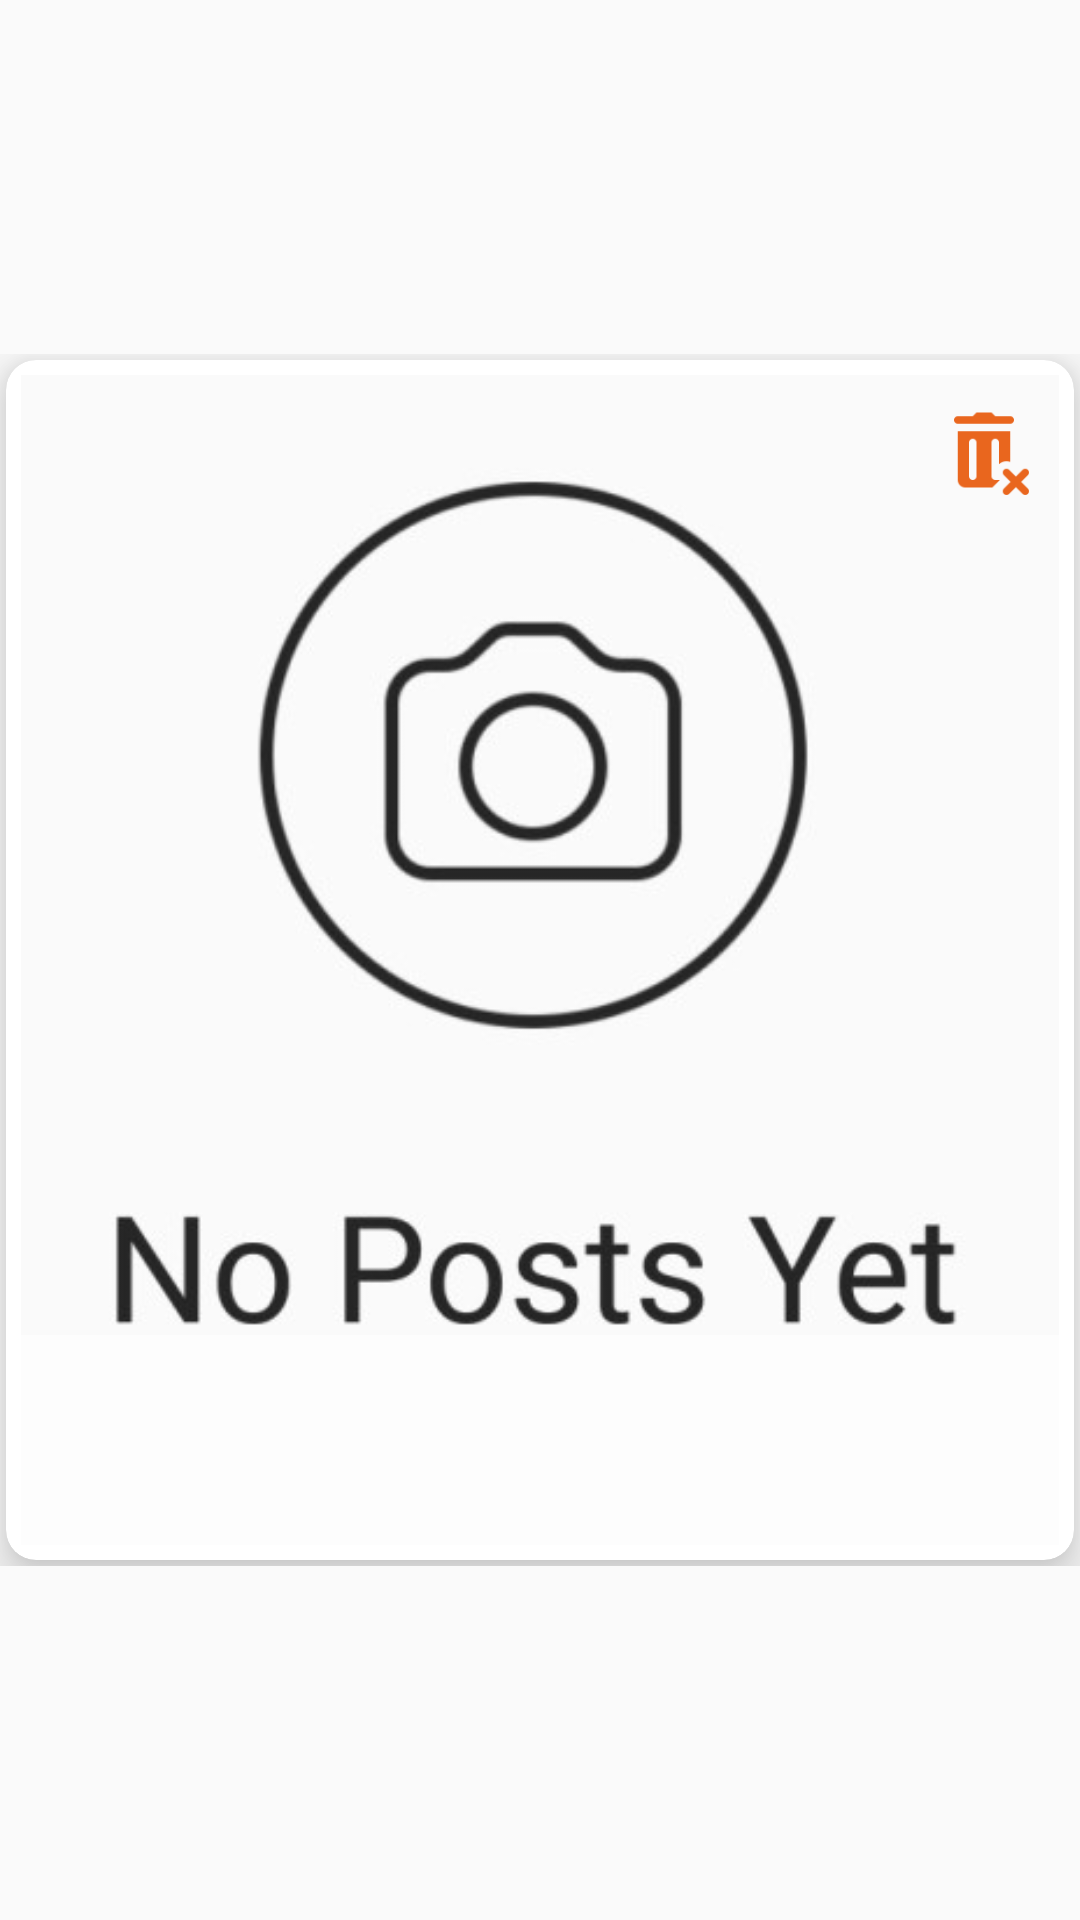

Icons on this 1080*1920 Android screen, each with its box as bbox=(x1, y1, x2, y2):
delete: bbox=(954, 412, 1029, 495)
